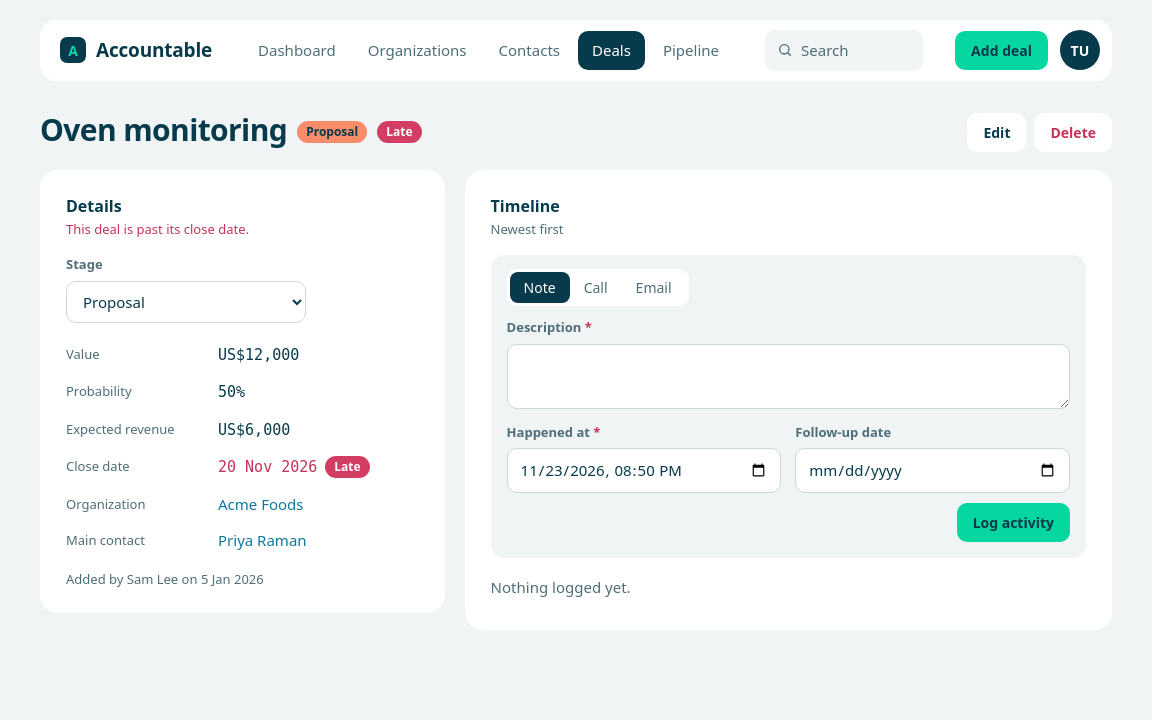
Test: deleting goes back to the deals
Later steps or results of the test are not shown.
Click the button "Delete": (1073, 132) [1034,112,1112,152]
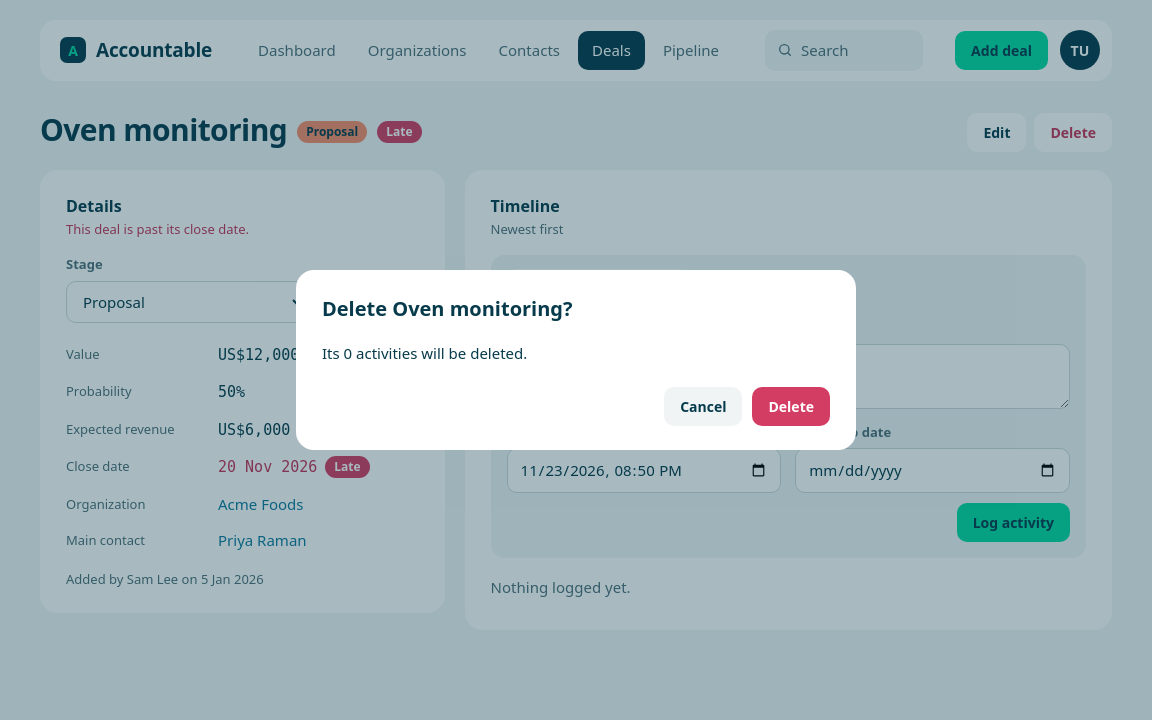
Now the text "Its 0 activities will be deleted." is shown, box [322,343,527,363]
